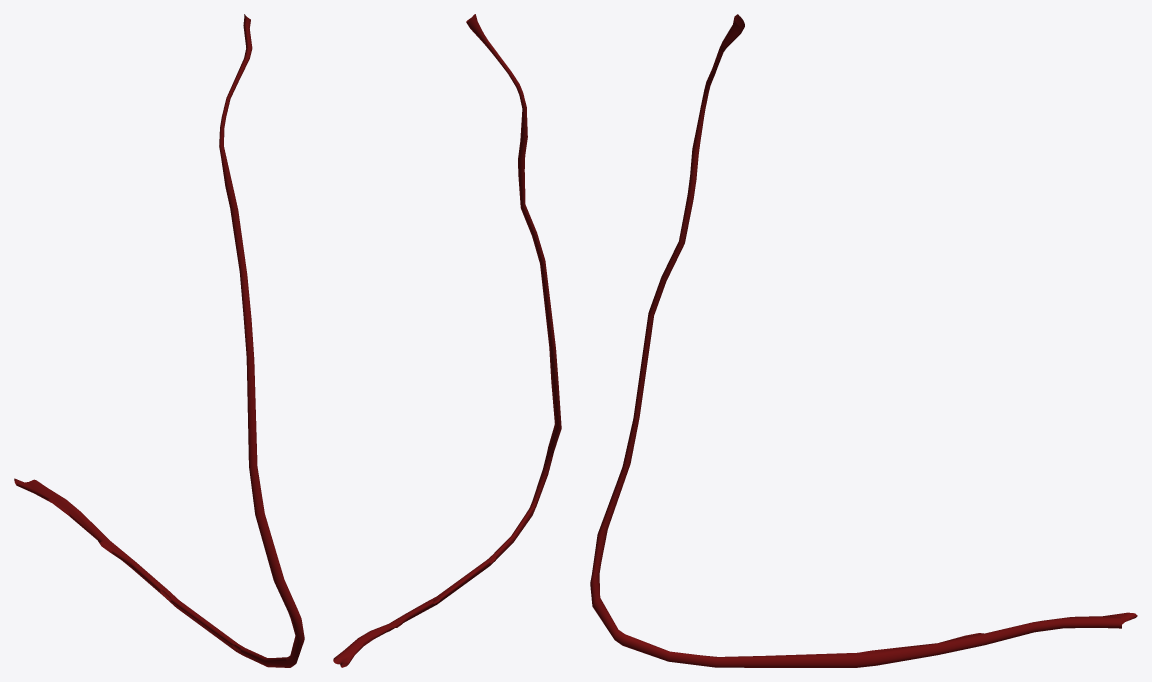
Rendered from R arteria thoracica interna.fbx.
3 renders of one model, left to right at view 1: azimuth 30°, elevation 25°; view 2: azimuth 150°, elevation 25°; view 3: azimuth 270°, elevation 25°, orthographic. The views are drawn at different scales.
Visible parts, largest first — view 1: R arteria thoracica interna; view 2: R arteria thoracica interna; view 3: R arteria thoracica interna.
Part boxes in pixels (left/top/right/bottom): R arteria thoracica interna: left=14, top=14, right=304, bottom=667; R arteria thoracica interna: left=333, top=14, right=561, bottom=667; R arteria thoracica interna: left=590, top=14, right=1137, bottom=667.
Size of the model in its own units: 3.04 by 35.6 by 26.82.
